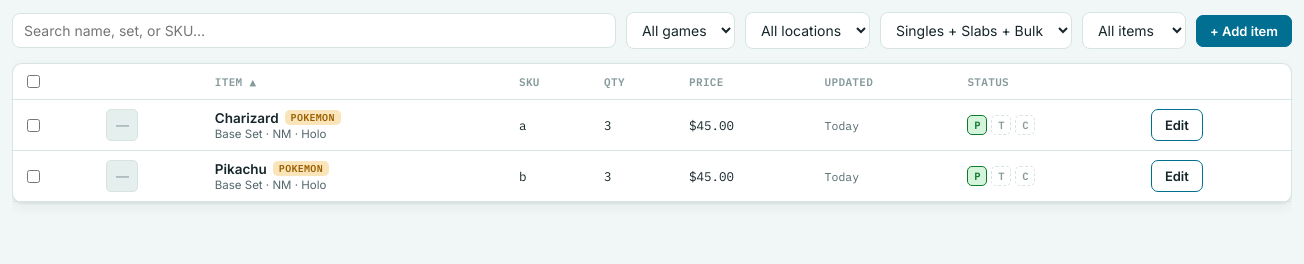
CatalogPanel — Rarity/Condition/Printing filters › actually filters the table rows when a rarity is picked
Select "Pokemon" in the 1st dropdown showing "All games" at (680, 30), box [626,12,735,49]
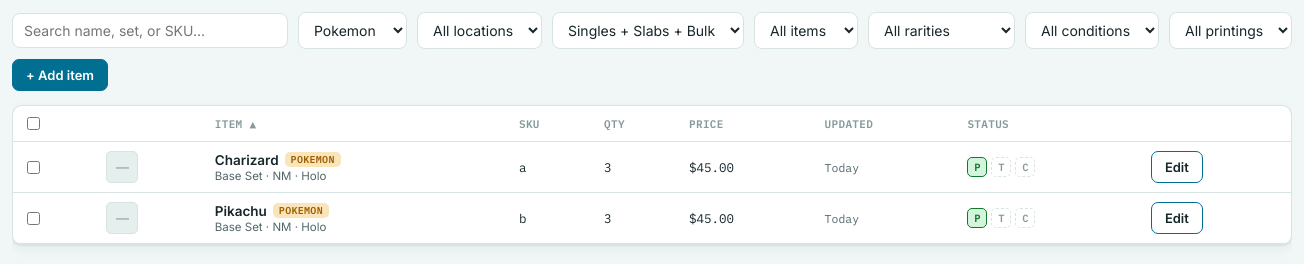
Select "Double Rare" in the 5th dropdown showing "All rarities" at (942, 30), box [868,12,1015,49]
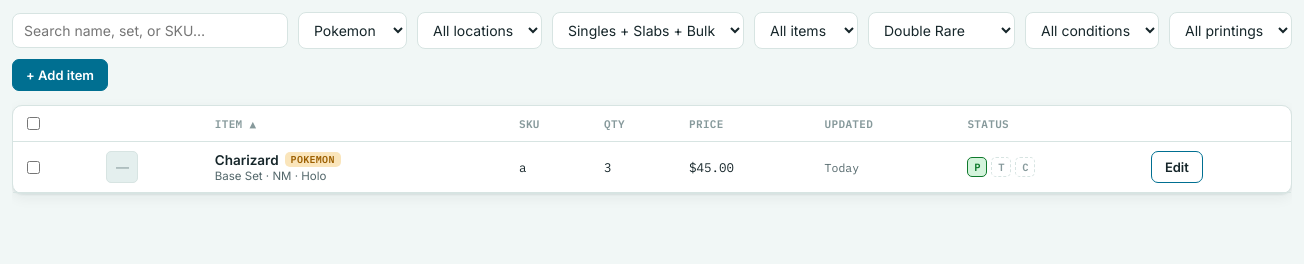
Check: the text "Charizard" is shown, box [215,152,279,168]
Check: the text "Pikachu" is gone
